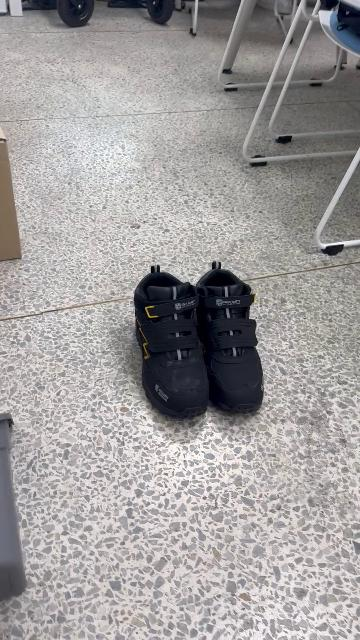shoe_worn: (132, 264, 208, 417), (193, 260, 266, 416)
